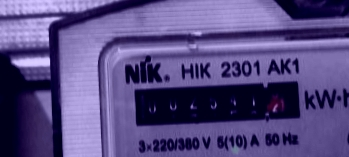0: (146, 94, 159, 115), (167, 91, 179, 112)
1: (247, 86, 259, 109)
2: (186, 89, 201, 112)
4: (227, 87, 239, 108)
5: (206, 88, 220, 112)
6: (270, 101, 282, 113)
screen: (122, 72, 313, 133)
